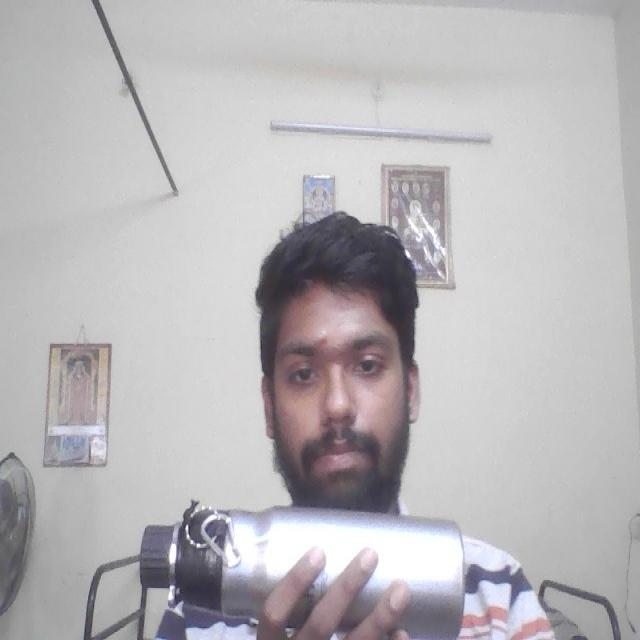Drinking: (130, 502, 472, 640)
